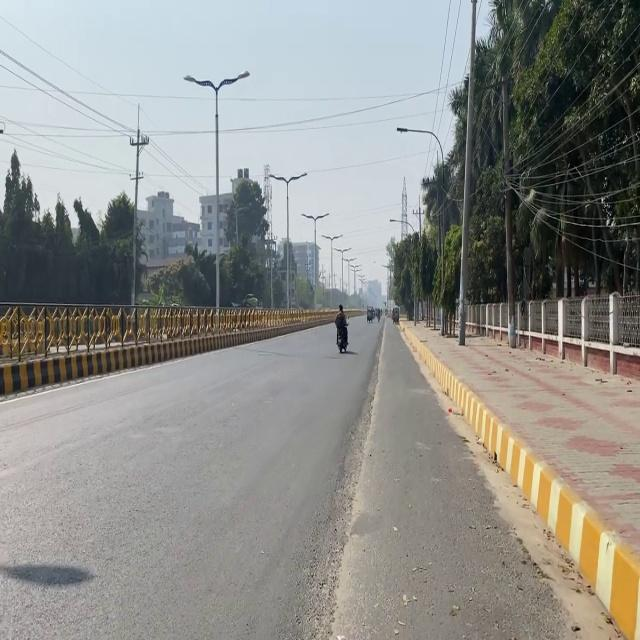Construction-barrier: (520, 440, 640, 630), (329, 313, 387, 638)
Garbage-bin: (334, 304, 349, 349)
Light-pole: (456, 0, 478, 345), (499, 79, 517, 347)
Pole: (0, 282, 270, 420)
Pothole: (396, 316, 639, 638)
